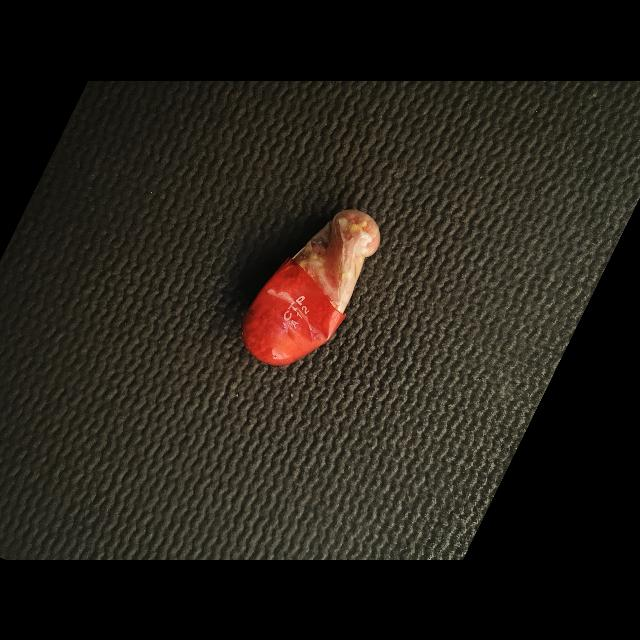Defective Capsule: (242, 209, 380, 364)
